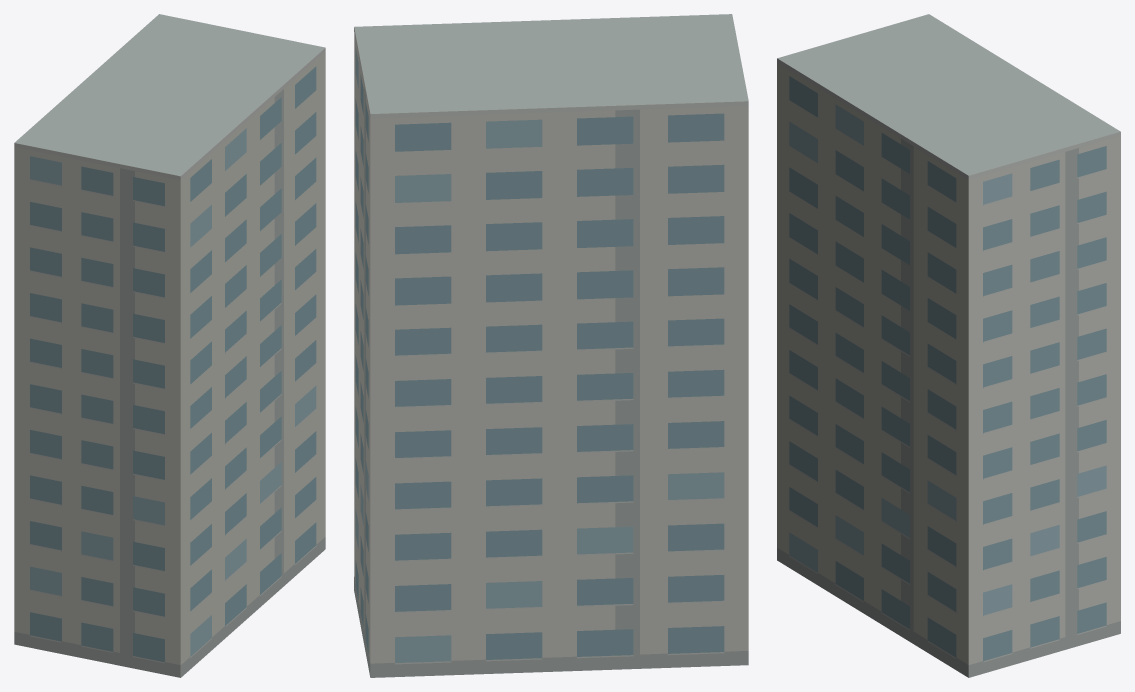
Rendered from residential-55b8d770-8fa9-4c25-be82-6877fbad0cb0.glb.
3 views of the same model, side by side, from view 1: azimuth 30°, elevation 25°; view 2: azimuth 150°, elevation 25°; view 3: azimuth 270°, elevation 25° (orthographic). The views are drawn at different scales.
Visible parts, largest first — view 1: residential-55b8d770-8fa9-4c25-be82-6877fbad0cb0.tmp; view 2: residential-55b8d770-8fa9-4c25-be82-6877fbad0cb0.tmp; view 3: residential-55b8d770-8fa9-4c25-be82-6877fbad0cb0.tmp.
Part boxes in pixels (<box>): residential-55b8d770-8fa9-4c25-be82-6877fbad0cb0.tmp: <box>14,14,325,677</box>; residential-55b8d770-8fa9-4c25-be82-6877fbad0cb0.tmp: <box>354,14,748,677</box>; residential-55b8d770-8fa9-4c25-be82-6877fbad0cb0.tmp: <box>777,14,1120,677</box>.
Size of the model in its own units: 20.74 by 30 by 18.62.
